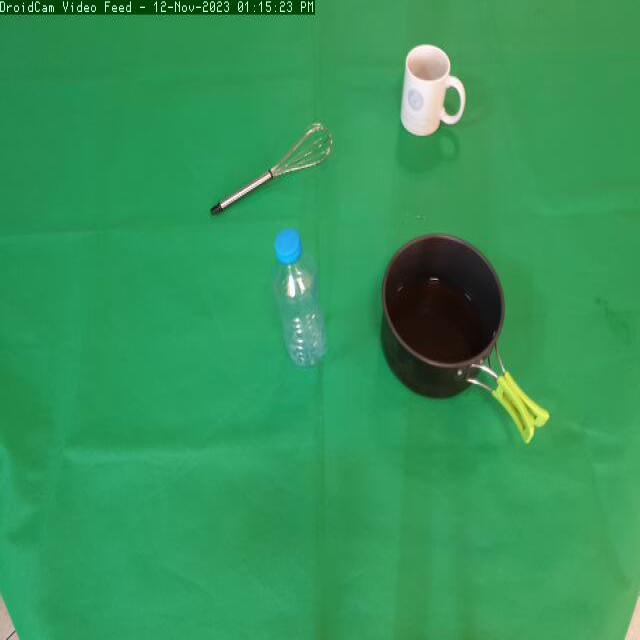bottle: (268, 219, 338, 385)
cup: (396, 40, 469, 154)
fullpot: (374, 230, 554, 454)
whisk: (202, 113, 337, 223)
